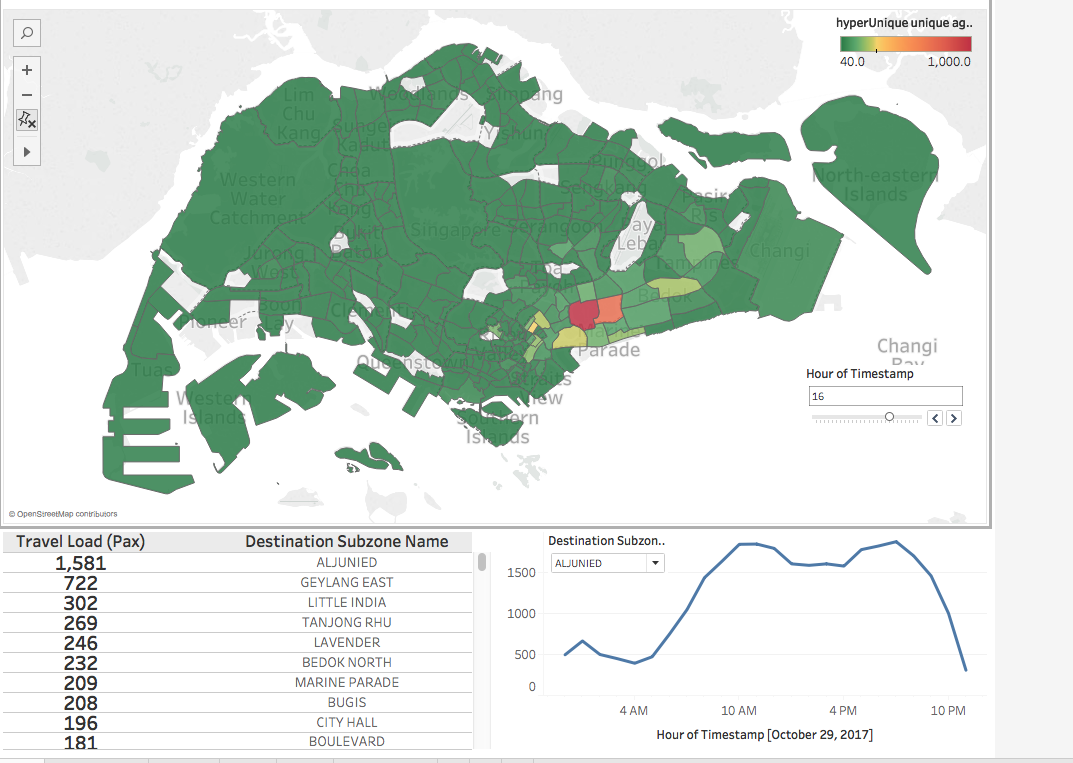

What the dashboard file says about the page in this screenshot:
{"tool":"tableau","page":{"name":"Material 1","canvas":[1000,800],"ordinal":1},"visuals":[{"type":"worksheet","title":"Sheet 1","mark":"Automatic","box":[0,0,1000,570]},{"type":"legend","title":"Sheet 1","param":"[federated.1f0shse0h87hvx100qxak1np49i4].[sum:hyperUnique_unique_agents:qk]","box":[841,56,140,76]},{"type":"filter","title":"Sheet 1","param":"[federated.1f0shse0h87hvx100qxak1np49i4].[hr:timestamp:ok]","box":[811,407,160,70]},{"type":"worksheet","title":"Sheet 2","mark":"Square","rows":["Calculation_2835719691756163072","destination_subzone_name"],"box":[0,570,500,230]},{"type":"worksheet","title":"Sheet 9","mark":"Automatic","rows":["hyperUnique_unique_agents"],"cols":["timestamp"],"box":[500,570,500,230]},{"type":"filter","title":"Sheet 9","param":"[federated.1f0shse0h87hvx100qxak1np49i4].[none:destination_subzone_name:nk]","box":[553,574,120,51]}]}

Visuals, with their boxes on the page's 1000x800 design canvas (x1, y1, x2, y2). These are canvas units, not pixel positions in the 1073x763 screenshot, which may show the page scaled, cropped or inside an application window:
"Sheet 1" worksheet: region(0, 0, 1000, 570)
"Sheet 1" legend: region(841, 56, 981, 132)
"Sheet 1" filter: region(811, 407, 971, 477)
"Sheet 2" worksheet (Square marks): region(0, 570, 500, 800)
"Sheet 9" worksheet: region(500, 570, 1000, 800)
"Sheet 9" filter: region(553, 574, 673, 625)
